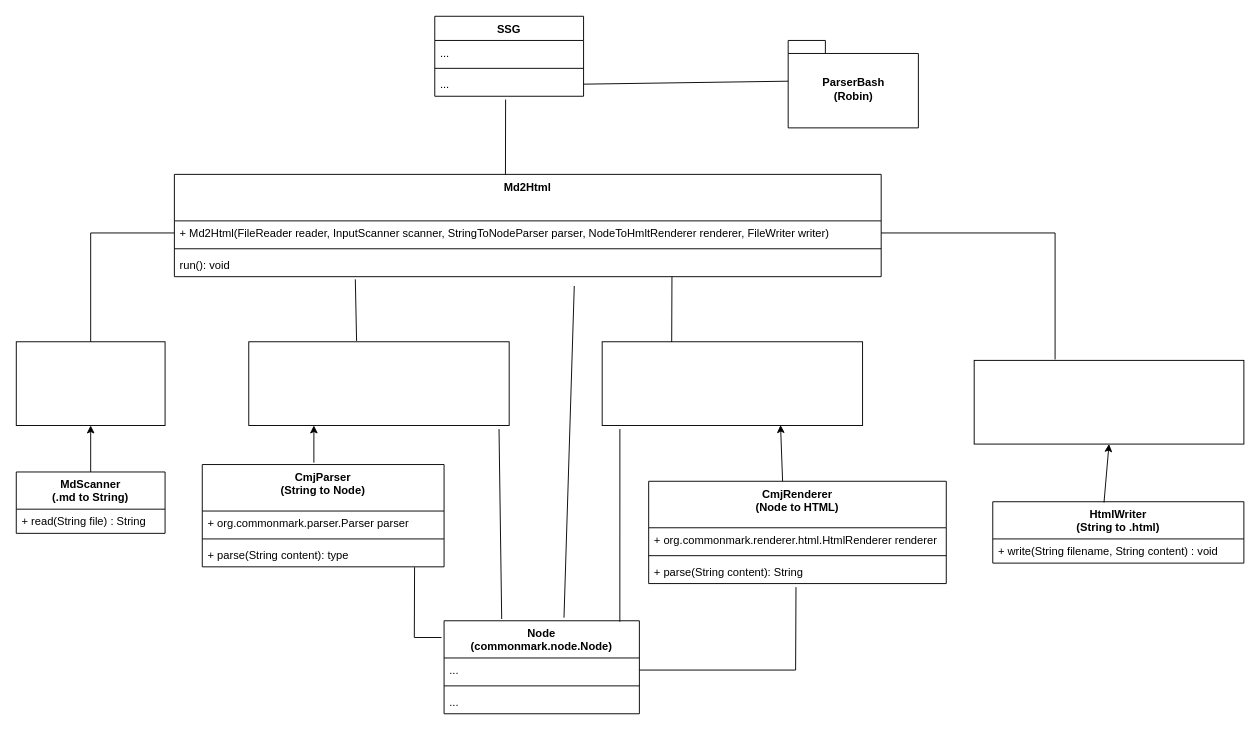
This 1260x733 diagram has some shape labels left out. Each missing label, with the centre of its shape:
"<<Interface>> FileReader + read(String file): String" goes at point (90, 383).
"<<Interface>> FileWriter + write(String filename, String content): void" goes at point (1108, 401).
"<<Interface>> NodeToHtmlRenderer + render(Node document): String" goes at point (732, 383).
"<<Interface>> StringToNodeParser + parse(String content): Node" goes at point (378, 383).
